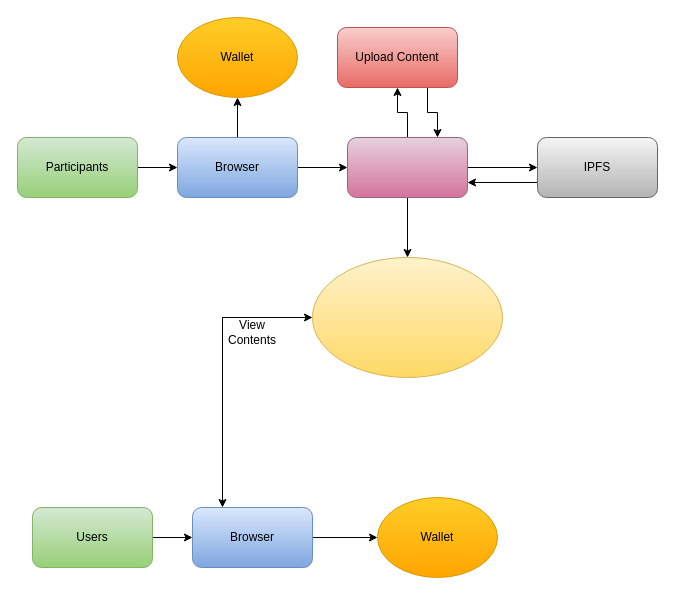
The diagram is 675 pixels wide and 595 high, and some of its shapes have lost their labels. Here are the shapes that lost their labels. From the top down, the centre of each, then its label:
At (x=407, y=167): "Website".
At (x=407, y=317): "Blockchain".
